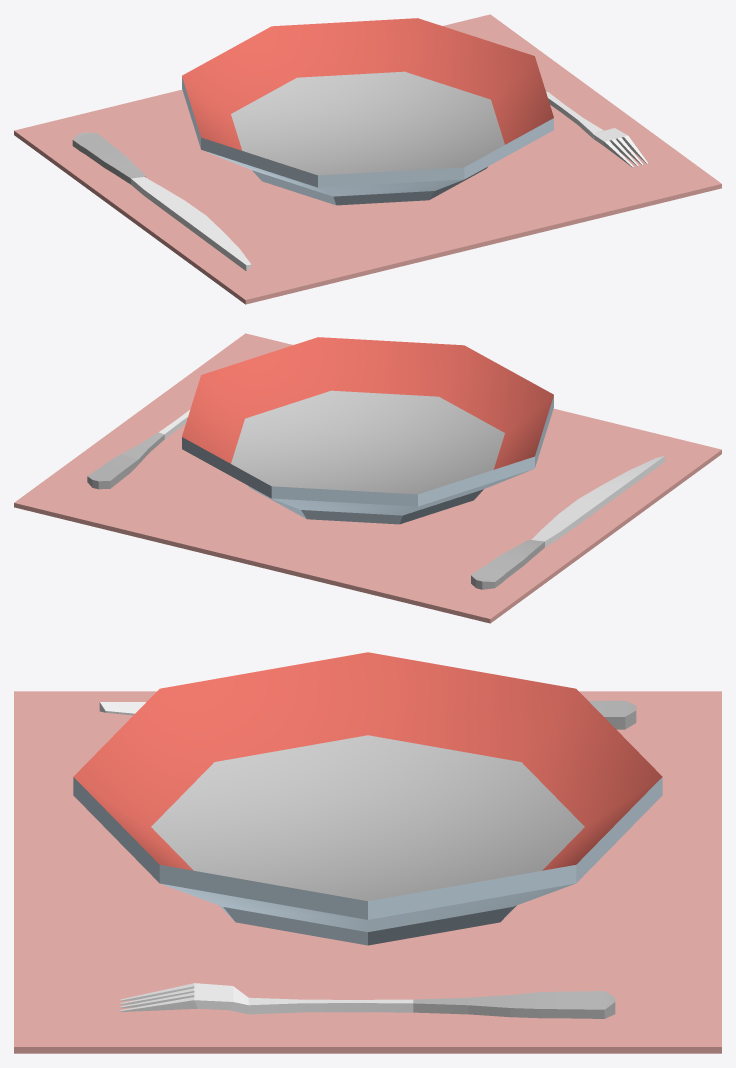
The model's file is Knife and Dish_lv3.fbx.
3 renders of one model, top to bottom at view 1: azimuth 30°, elevation 25°; view 2: azimuth 150°, elevation 25°; view 3: azimuth 270°, elevation 25°, orthographic. The views are drawn at different scales.
Parts seen in each view (by area): view 1: Knife_and_Dish_lv3; view 2: Knife_and_Dish_lv3; view 3: Knife_and_Dish_lv3.
Part boxes in pixels (left/top/right/bottom): Knife_and_Dish_lv3: left=14, top=14, right=721, bottom=304; Knife_and_Dish_lv3: left=14, top=333, right=721, bottom=623; Knife_and_Dish_lv3: left=14, top=652, right=721, bottom=1053.
Bounding box in the file's own units: 86.23 × 11.23 × 72.59.
